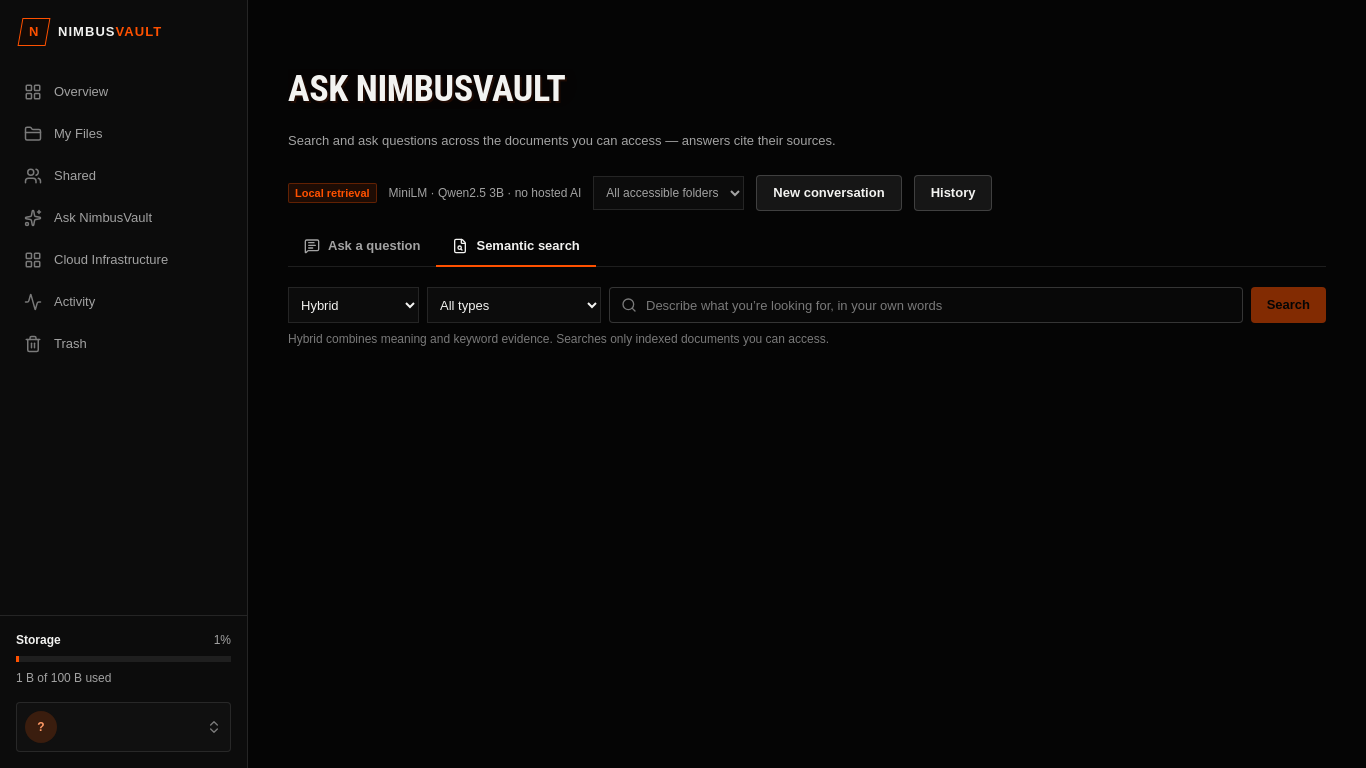
Scenario: AskPage › falls back to search when only embeddings are configured, and renders results / empty state
Type "accommodation costs" into the field named "semantic search query". click: (926, 305)
box: [609,287,1243,323]
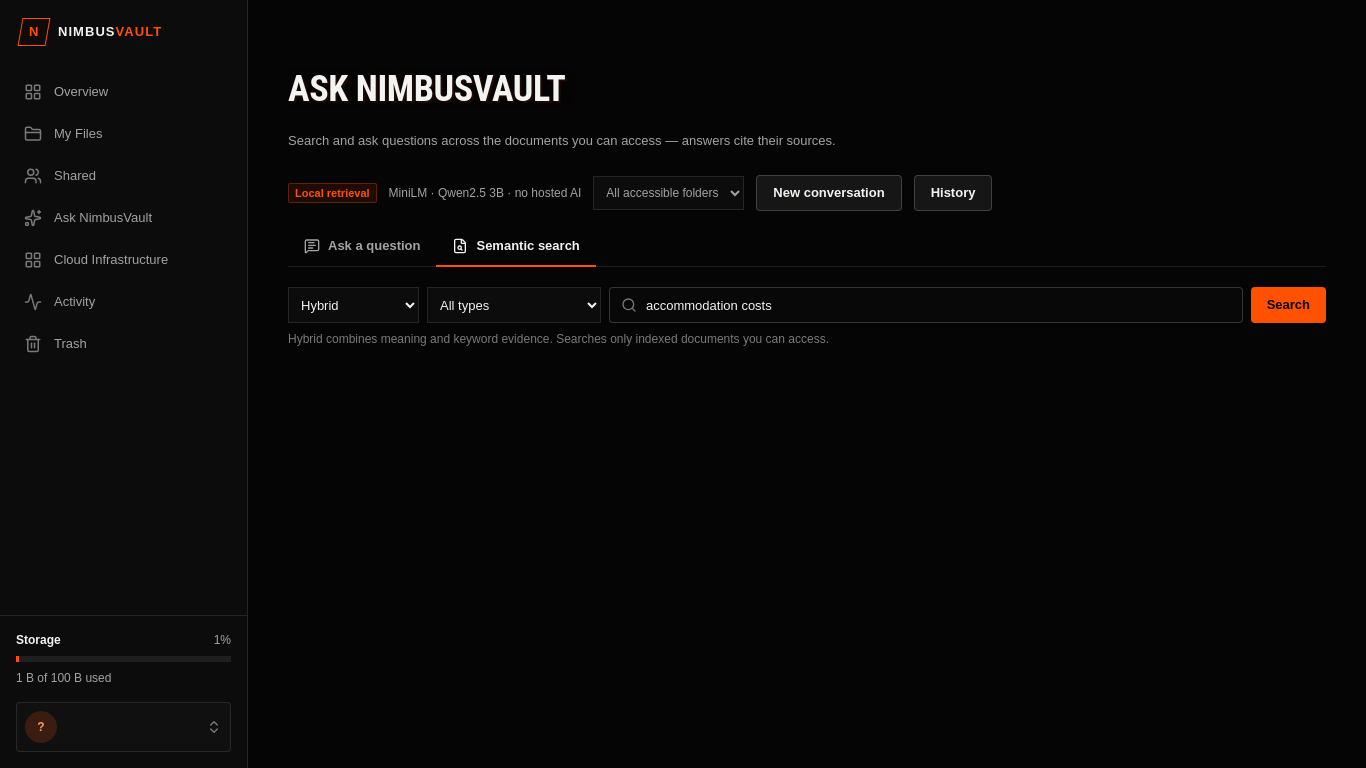
Click the button "Search". click: (1288, 305)
box: [1251,287,1326,323]
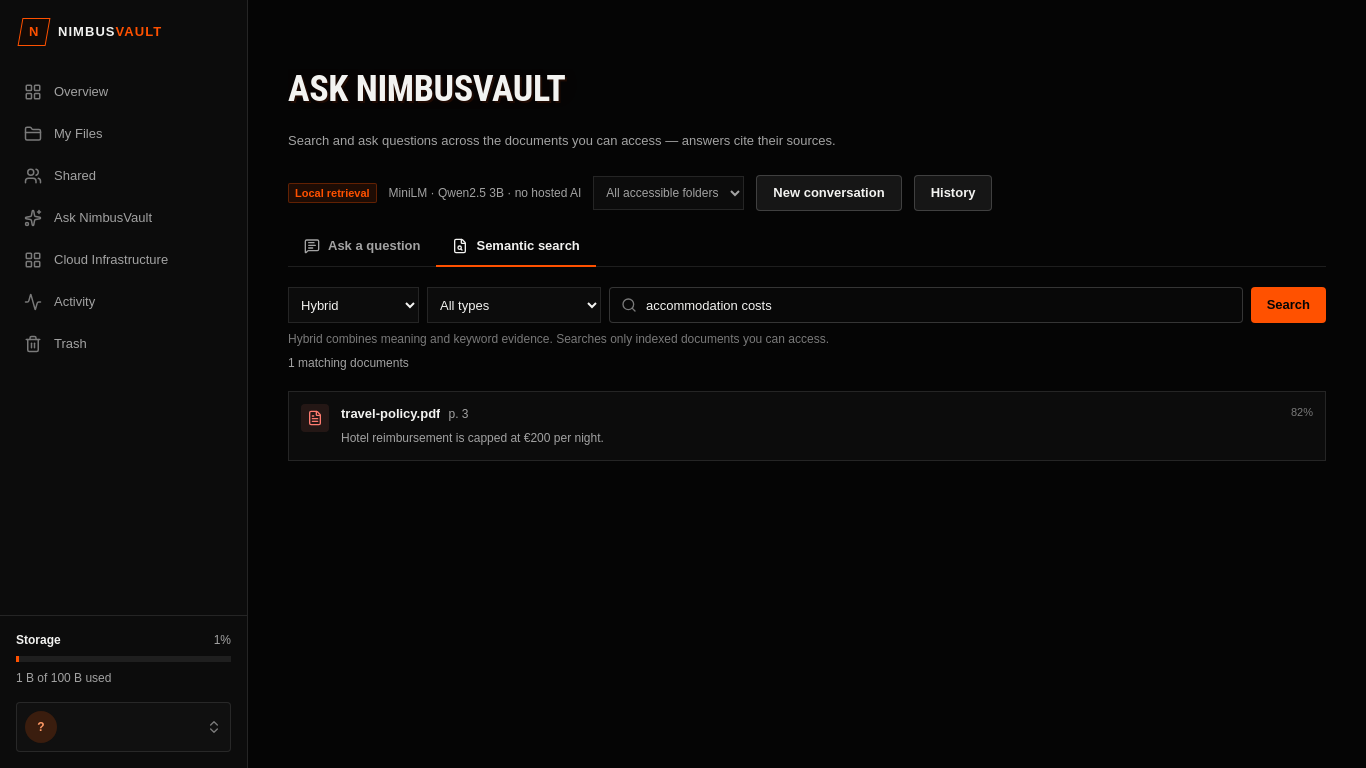
Now the text "travel-policy.pdf" is shown, box [341,404,440,424]
Now the text "82%" is shown, box [1291,404,1313,420]
